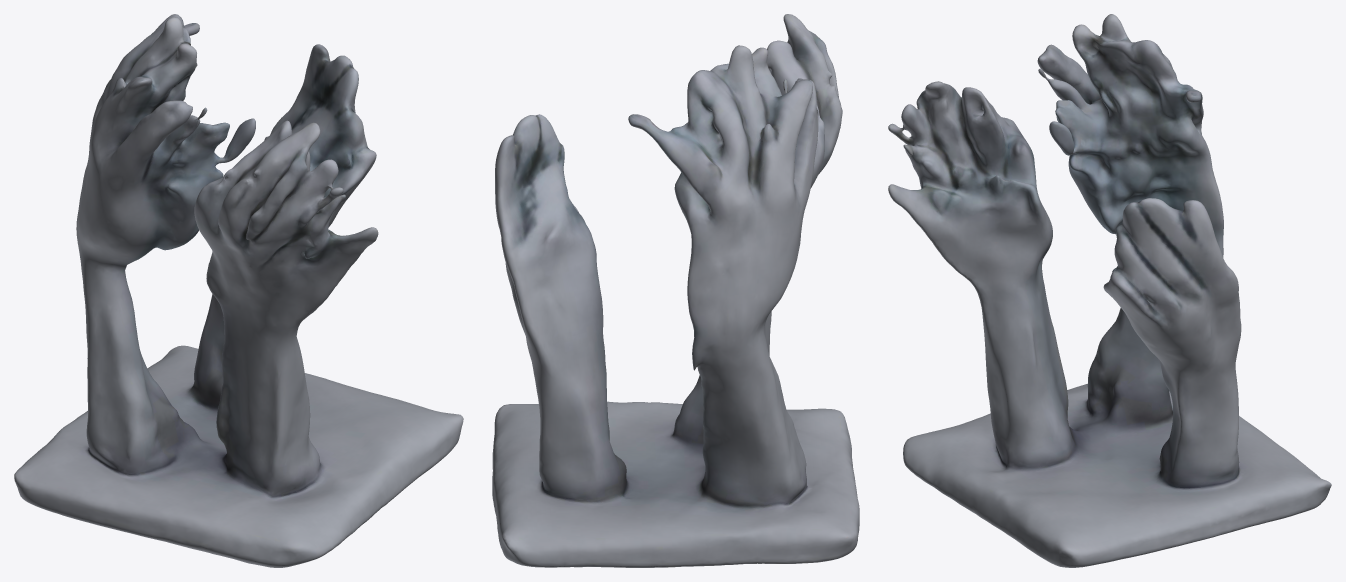
File: 5d120909dc1a_hands_sculpture__3d.fbx
The picture shows the model from 3 angles, left to right: view 1: azimuth 30°, elevation 25°; view 2: azimuth 150°, elevation 25°; view 3: azimuth 270°, elevation 25°; orthographic projection. The views are drawn at different scales.
Visible parts, largest first — view 1: high_poly; view 2: high_poly; view 3: high_poly.
Part boxes in pixels (x1,y1,x2,y2): high_poly: [14, 14, 463, 567]; high_poly: [492, 14, 859, 567]; high_poly: [888, 14, 1331, 567].
Size of the model in its own units: 87.56 by 100 by 90.01.
